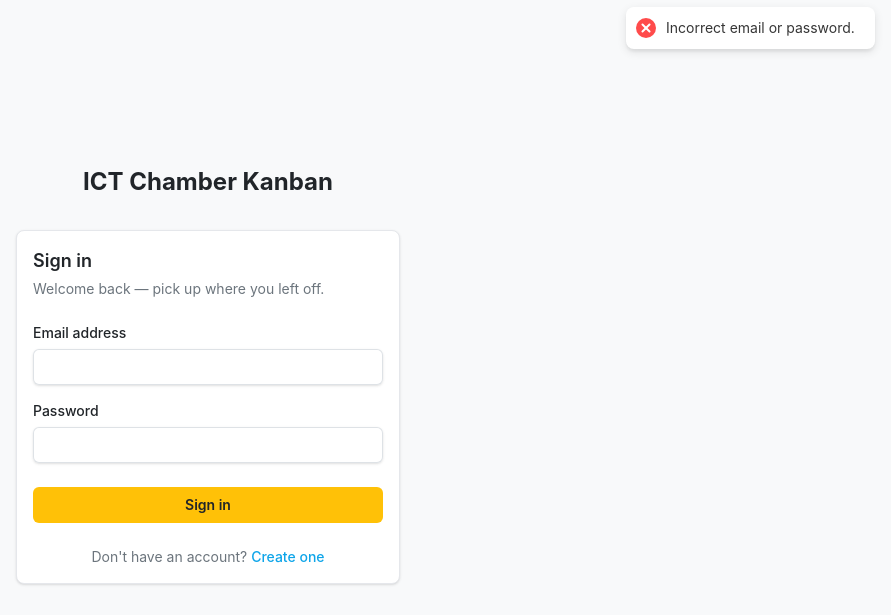
Test: LoginPage › shows a 422 field-level error next to the relevant input instead of a toast
Type "jane@example.com" into the field labelled "Email address" at (208,367), box top-left (33, 349), bottom-right (383, 385)
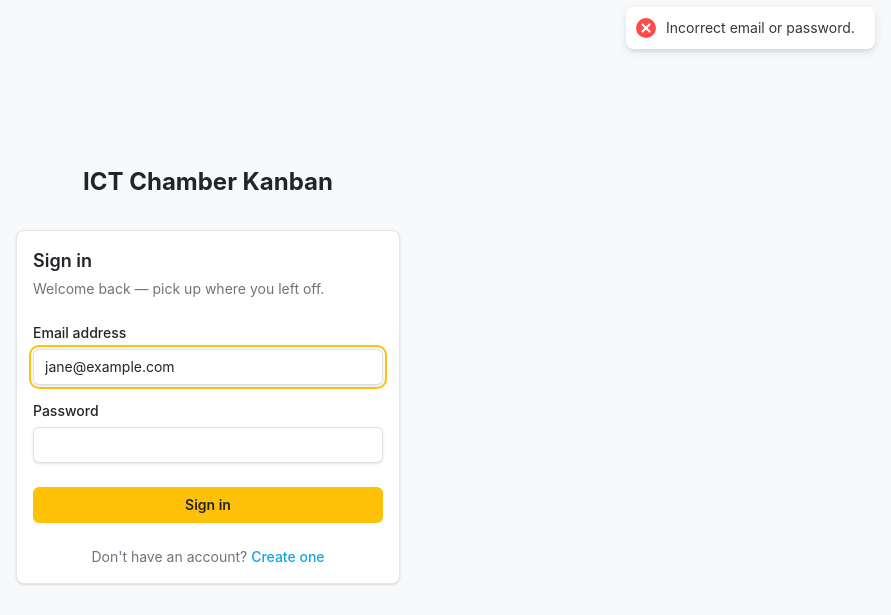
Type "at-least-8-characters" into the password field labelled "Password" at (208,445), box top-left (33, 427), bottom-right (383, 463)
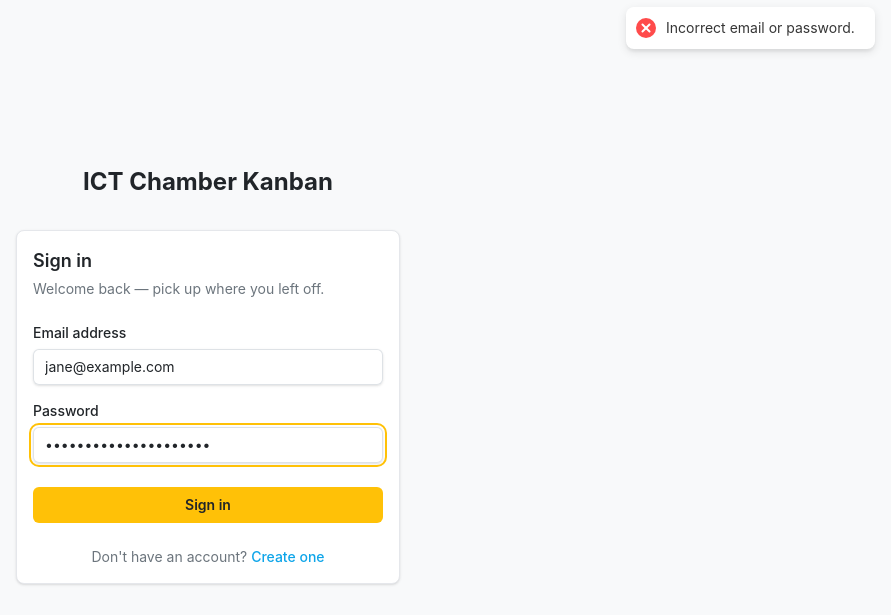
Click the button "Sign in" at (208,505), box top-left (33, 487), bottom-right (383, 523)
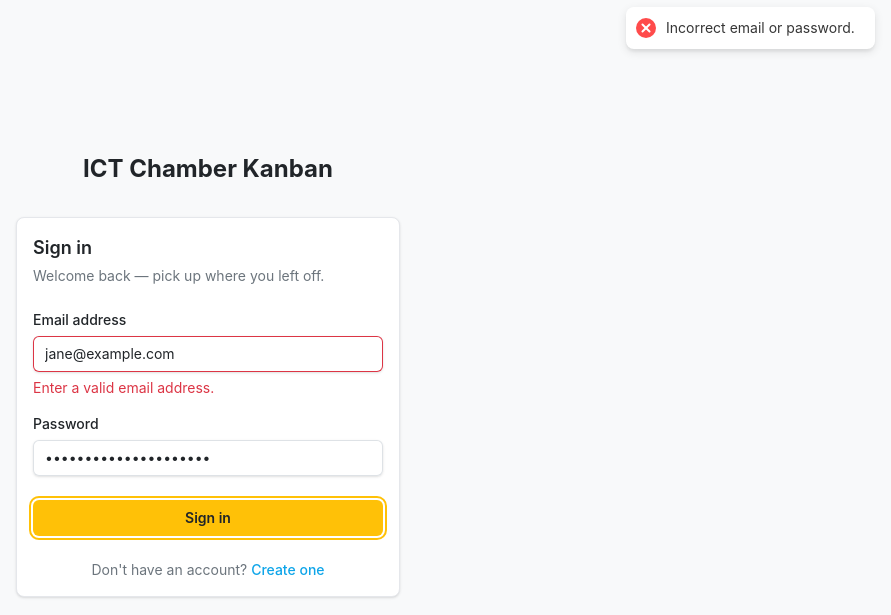
Now the text "Enter a valid email address." is shown, box top-left (33, 379), bottom-right (214, 396)
